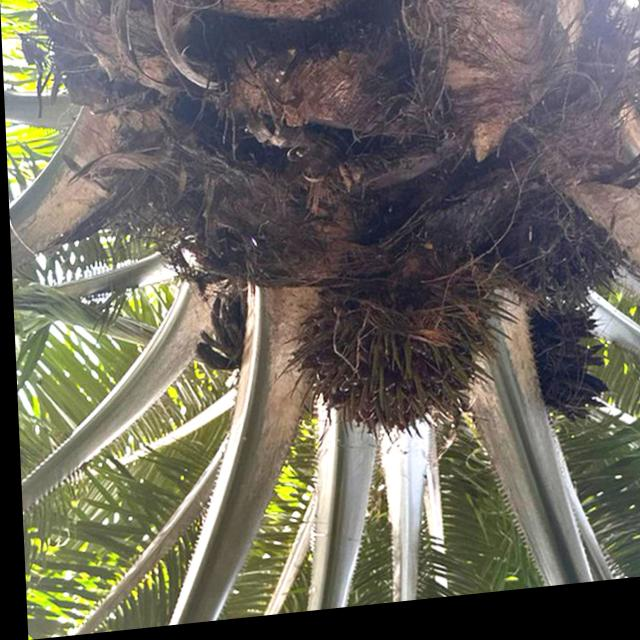ripe: (261, 256, 526, 475)
